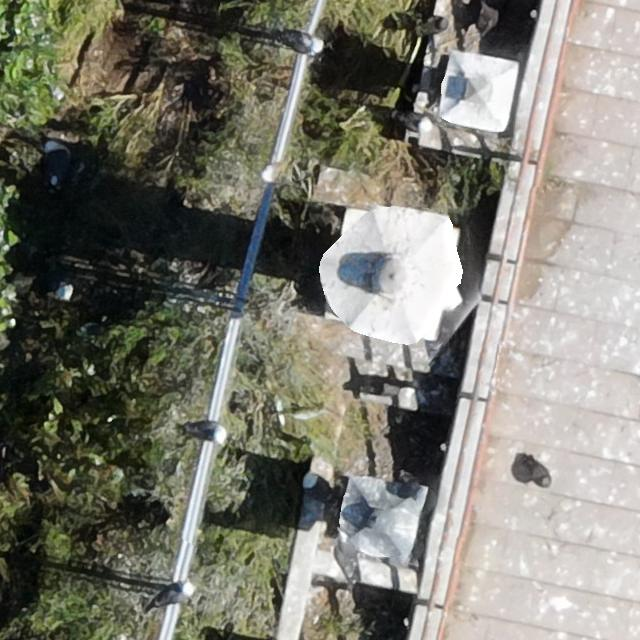umineko: (303, 474, 339, 504), (336, 532, 358, 581), (46, 142, 67, 181), (391, 113, 434, 131), (287, 36, 321, 55), (195, 424, 225, 443), (161, 586, 191, 604), (50, 280, 72, 299)
